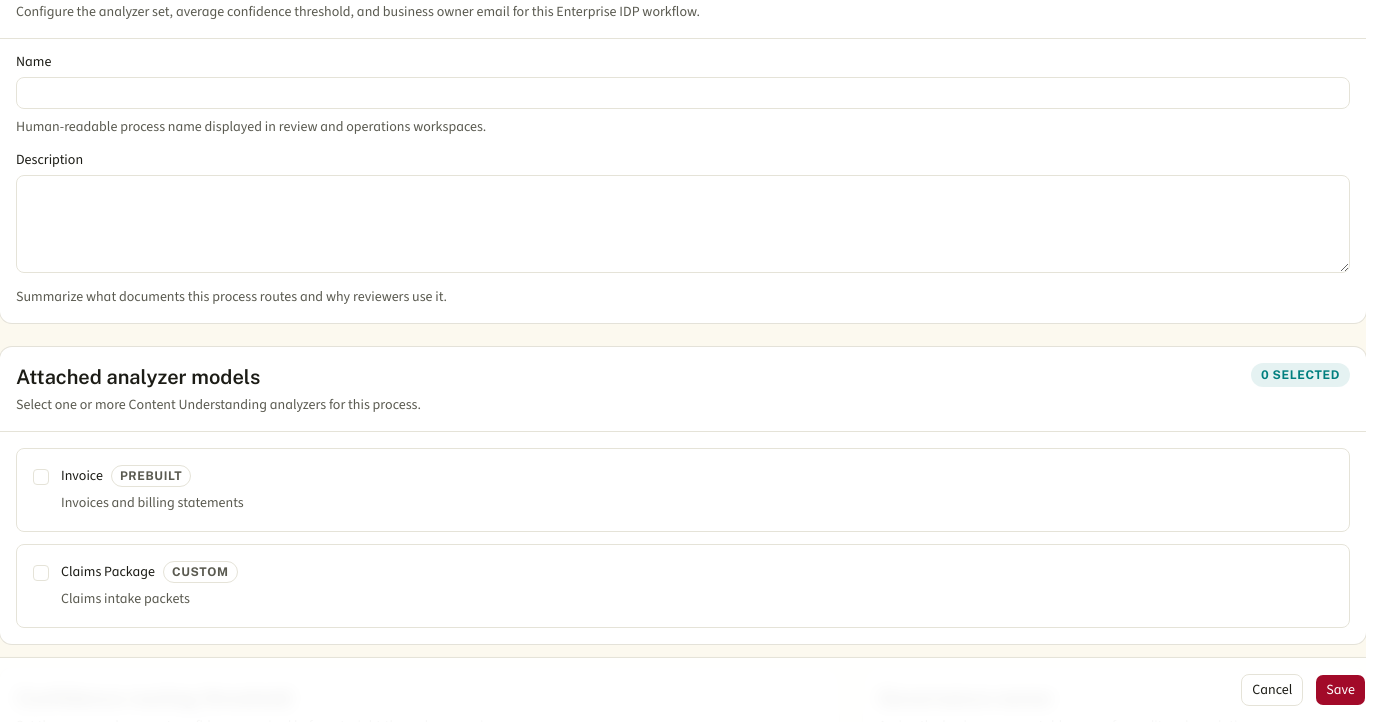
Test case: ProcessForm › maps a 409 save failure to the name field
Expected: the text "Invoice" is shown, [61, 466, 103, 486]
Step 1. Type "Invoice Intake" into the field labelled "Name" → coordinates (683, 93), box [16, 77, 1350, 109]
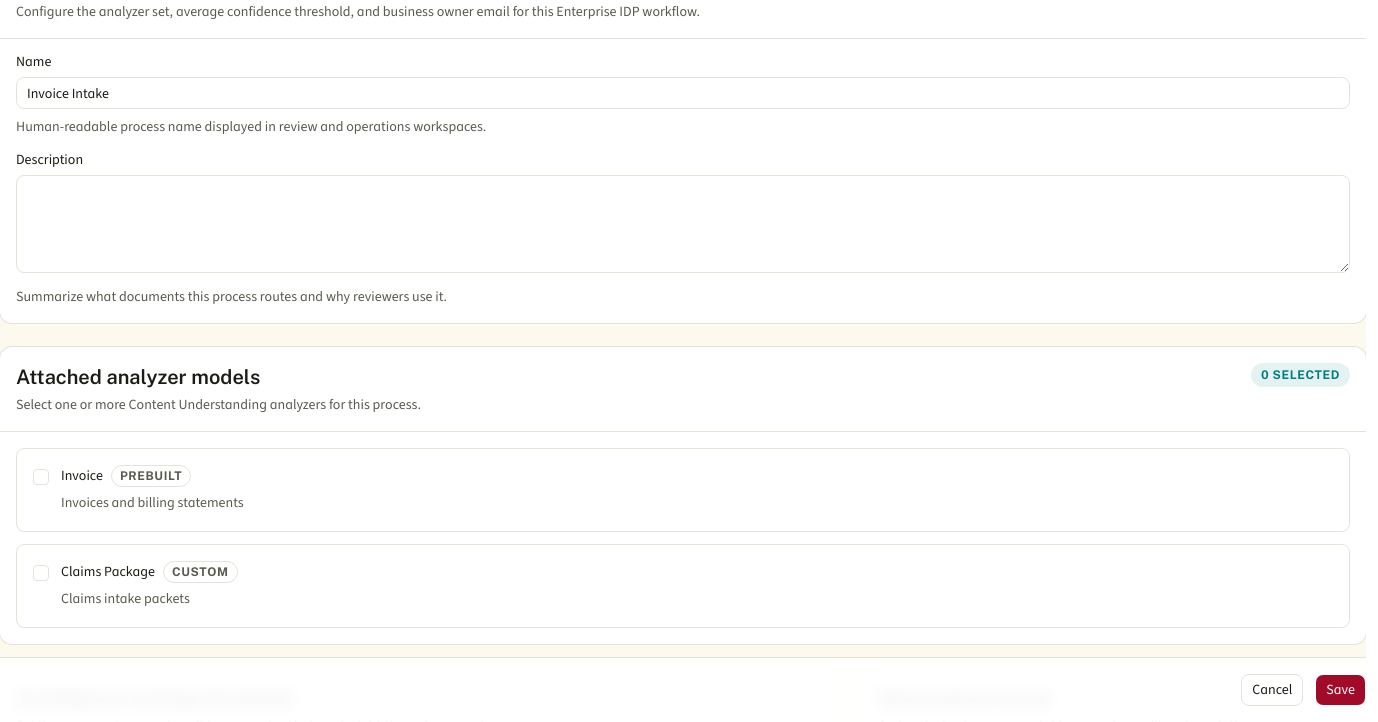
Step 2. Type "Routes invoices" into the text box labelled "Description" → coordinates (683, 224), box [16, 175, 1350, 273]
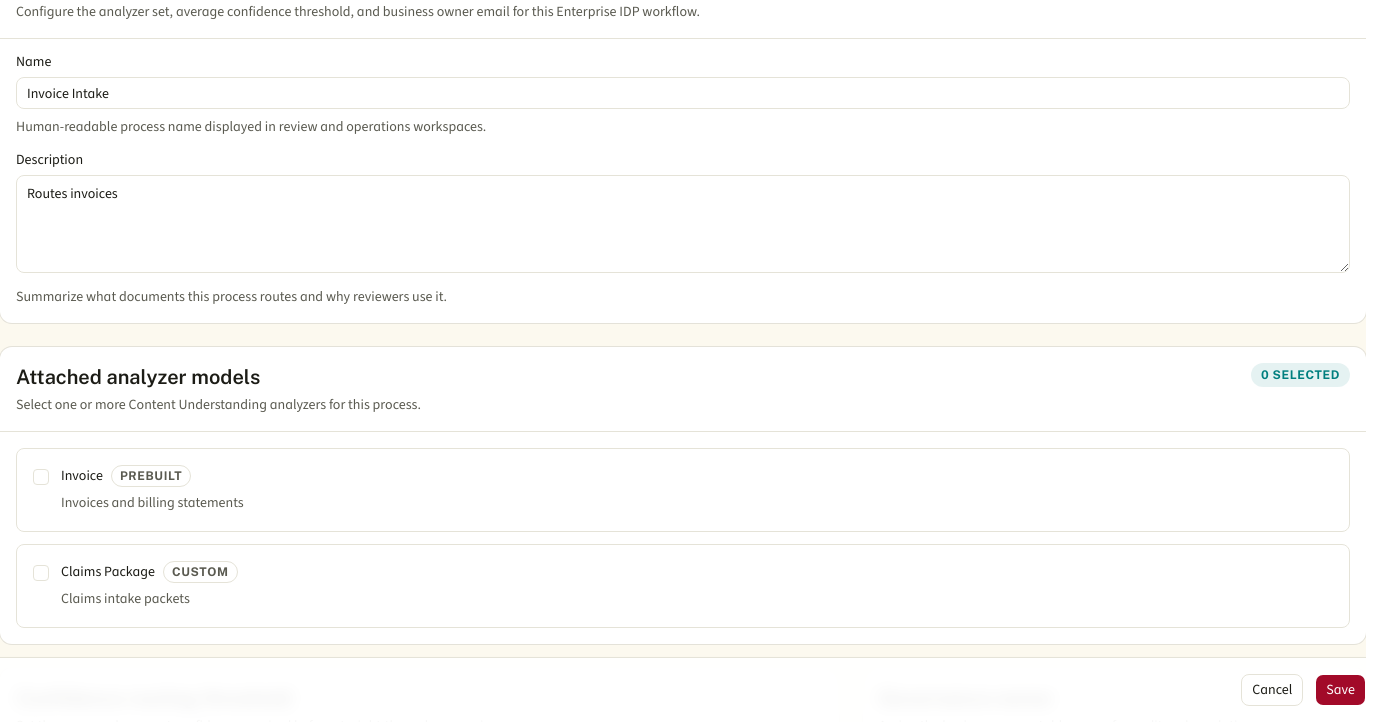
Step 3. Click the checkbox named "Invoice" in the row of "prebuilt" → coordinates (41, 477), box [33, 469, 49, 485]
(page scrolled)
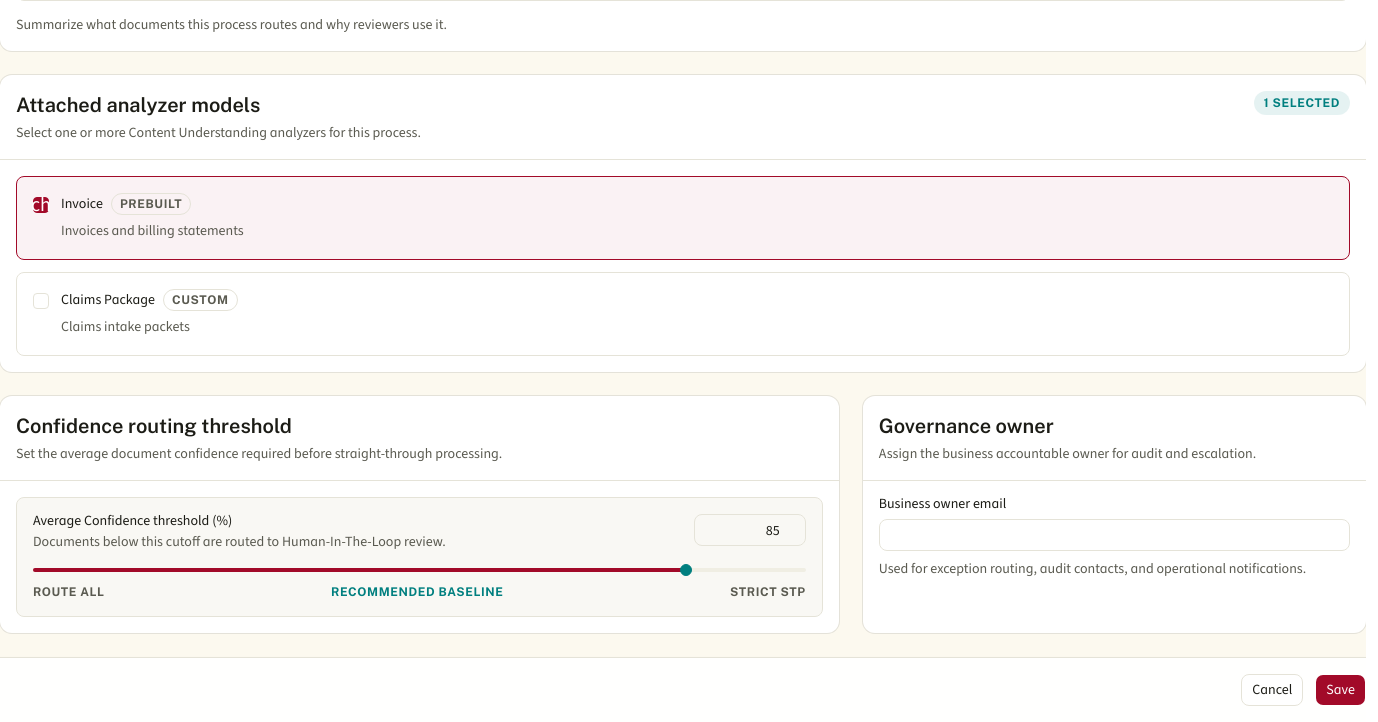
Step 4. Type "owner@example.com" into the field labelled "Business owner email" → coordinates (1114, 535), box [879, 519, 1350, 551]
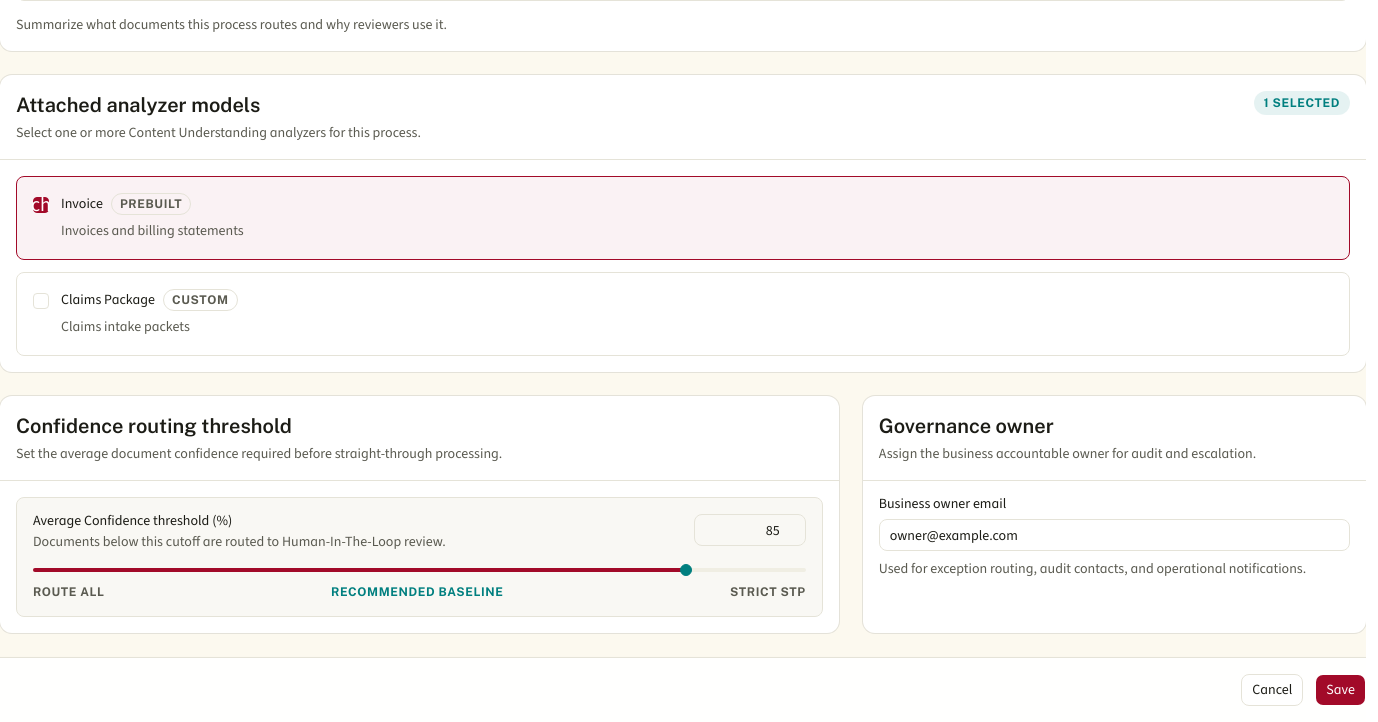
Step 5. Click the button "Save" → coordinates (1341, 690), box [1315, 674, 1366, 706]
(page scrolled)
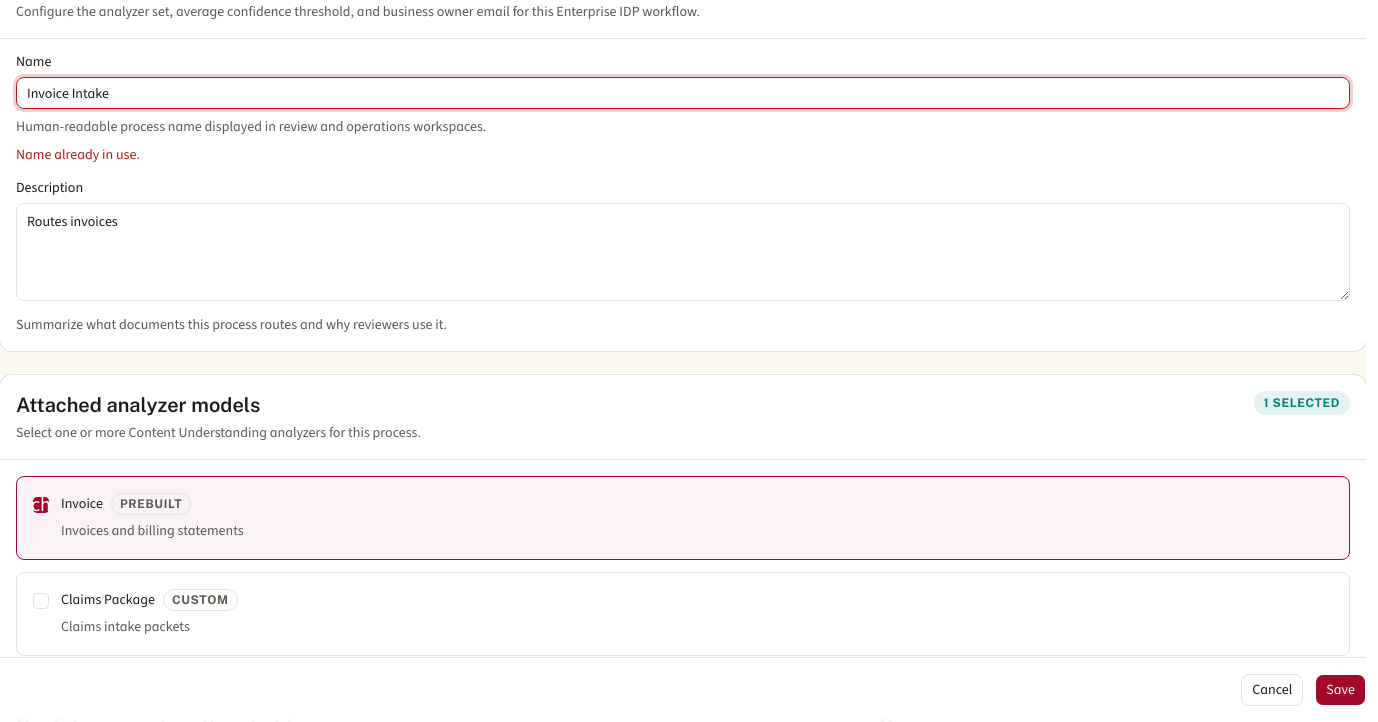
Expected: the text "Name already in use." is shown, [16, 145, 140, 164]
